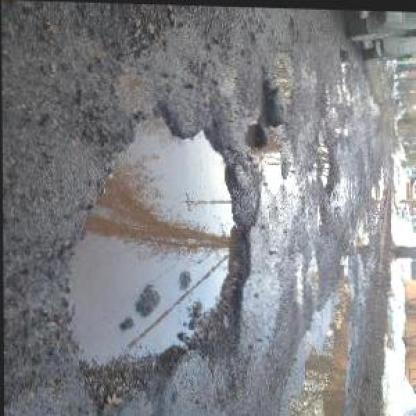pothole: (65, 101, 258, 402), (316, 141, 337, 190), (265, 150, 286, 194), (275, 50, 294, 97)
